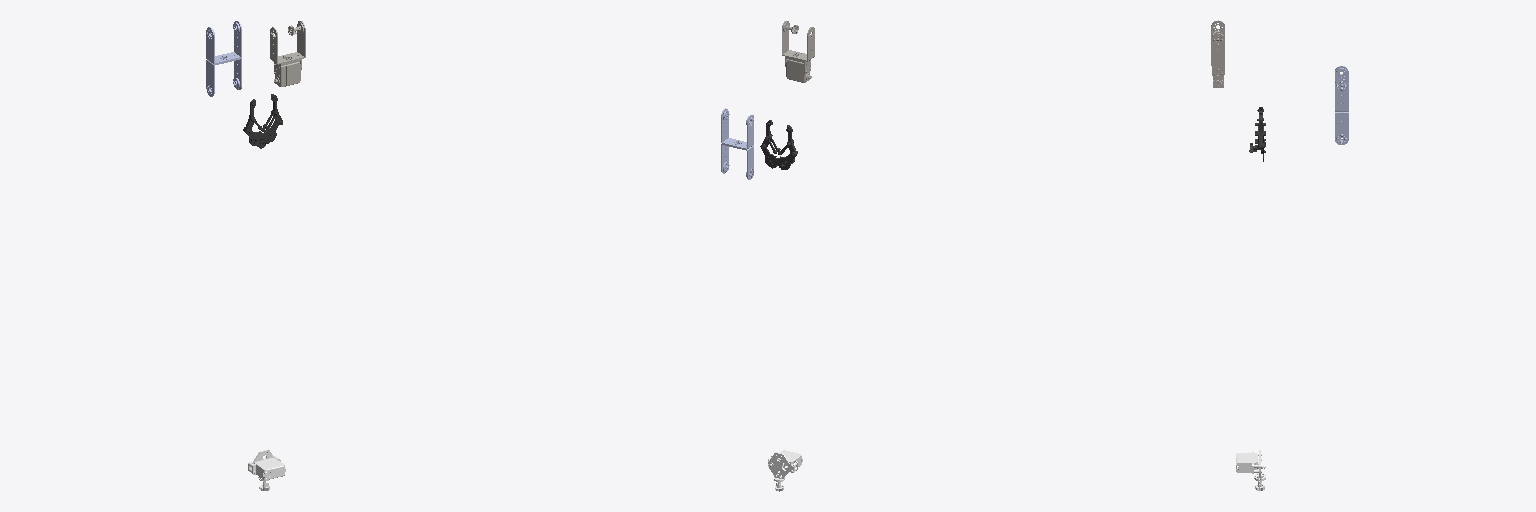
The robot description file, URDF, robot "robot1":
<?xml version="1.0" encoding="utf-8"?>
<!-- This URDF was automatically created by SolidWorks to URDF Exporter! Originally created by Stephen Brawner ([email redacted]) 
     Commit Version: 1.5.0-0-g9aa0fdb  Build Version: 1.5.7004.21443
     For more information, please see http://wiki.ros.org/sw_urdf_exporter -->
<robot
  name="robot1">
  <link
    name="base_link">
    <inertial>
      <origin
        xyz="-2.8237E-06 -0.14349 0.022762"
        rpy="0 0 0" />
      <mass
        value="0.13519" />
      <inertia
        ixx="0.00046442"
        ixy="1.9998E-08"
        ixz="6.1785E-13"
        iyy="0.00014057"
        iyz="1.1305E-08"
        izz="0.00060208" />
    </inertial>
    <visual>
      <origin
        xyz="0 0 0"
        rpy="0 0 0" />
      <geometry>
        <mesh
          filename="package://robot1/meshes/base_link.STL" />
      </geometry>
      <material
        name="">
        <color
          rgba="0.027451 0.56471 0.94902 1" />
      </material>
    </visual>
    <collision>
      <origin
        xyz="0 0 0"
        rpy="0 0 0" />
      <geometry>
        <mesh
          filename="package://robot1/meshes/base_link.STL" />
      </geometry>
    </collision>
  </link>
  <link
    name="lower_plate">
    <inertial>
      <origin
        xyz="1.4955E-05 -0.0042886 0.0010033"
        rpy="0 0 0" />
      <mass
        value="0.065579" />
      <inertia
        ixx="2.6895E-05"
        ixy="-6.8281E-09"
        ixz="1.5192E-08"
        iyy="5.4185E-05"
        iyz="-7.0729E-12"
        izz="2.9579E-05" />
    </inertial>
    <visual>
      <origin
        xyz="0 0 0"
        rpy="0 0 0" />
      <geometry>
        <mesh
          filename="package://robot1/meshes/lower_plate.STL" />
      </geometry>
      <material
        name="">
        <color
          rgba="0.027451 0.56471 0.94902 1" />
      </material>
    </visual>
    <collision>
      <origin
        xyz="0 0 0"
        rpy="0 0 0" />
      <geometry>
        <mesh
          filename="package://robot1/meshes/lower_plate.STL" />
      </geometry>
    </collision>
  </link>
  <joint
    name="lower_plate"
    type="revolute">
    <origin
      xyz="0 -0.17671 0.071097"
      rpy="-1.5708 0 -1.5708" />
    <parent
      link="base_link" />
    <child
      link="lower_plate" />
    <axis
      xyz="0 0 0" />
    <limit
      lower="-3.14"
      upper="3.14"
      effort="1000"
      velocity="1" />
    <safety_controller
      k_velocity="0" />
  </joint>
  <link
    name="lower_arm">
    <inertial>
      <origin
        xyz="-0.0912958583110127 -0.0199000243229966 -0.0109155252805412"
        rpy="0 0 0" />
      <mass
        value="0.0206839694838106" />
      <inertia
        ixx="1.04050452138262E-05"
        ixy="-7.8202350463771E-14"
        ixz="-9.38773889957363E-13"
        iyy="1.58526409378008E-05"
        iyz="-1.48225634940863E-12"
        izz="7.34460089310265E-06" />
    </inertial>
    <visual>
      <origin
        xyz="0 0 0"
        rpy="0 0 0" />
      <geometry>
        <mesh
          filename="package://robot1/meshes/lower_arm.STL" />
      </geometry>
      <material
        name="">
        <color
          rgba="0.792156862745098 0.819607843137255 0.933333333333333 1" />
      </material>
    </visual>
    <collision>
      <origin
        xyz="0 0 0"
        rpy="0 0 0" />
      <geometry>
        <mesh
          filename="package://robot1/meshes/lower_arm.STL" />
      </geometry>
    </collision>
  </link>
  <joint
    name="lower_arm"
    type="revolute">
    <origin
      xyz="0.0299 0.021603 0.009624"
      rpy="-3.1416 0 1.5708" />
    <parent
      link="lower_plate" />
    <child
      link="lower_arm" />
    <axis
      xyz="0 0 0" />
    <limit
      lower="-3.14"
      upper="3.14"
      effort="1000"
      velocity="1" />
    <safety_controller
      k_velocity="0" />
  </joint>
  <link
    name="mid_arm">
    <inertial>
      <origin
        xyz="0.0307657907032864 -0.0244040039215777 0.00621653090060798"
        rpy="0 0 0" />
      <mass
        value="0.0384992712385342" />
      <inertia
        ixx="8.28530616879522E-06"
        ixy="3.4001374267329E-08"
        ixz="-8.76714848928945E-09"
        iyy="7.6534968489718E-06"
        iyz="1.2836297474616E-06"
        izz="1.2330950302944E-05" />
    </inertial>
    <visual>
      <origin
        xyz="0 0 0"
        rpy="0 0 0" />
      <geometry>
        <mesh
          filename="package://robot1/meshes/mid_arm.STL" />
      </geometry>
      <material
        name="">
        <color
          rgba="0.772549019607843 0.752941176470588 0.733333333333333 1" />
      </material>
    </visual>
    <collision>
      <origin
        xyz="0 0 0"
        rpy="0 0 0" />
      <geometry>
        <mesh
          filename="package://robot1/meshes/mid_arm.STL" />
      </geometry>
    </collision>
  </link>
  <joint
    name="mid_arm"
    type="revolute">
    <origin
      xyz="-0.1431 0.199 0.018876"
      rpy="1.8217 1.5708 0" />
    <parent
      link="lower_arm" />
    <child
      link="mid_arm" />
    <axis
      xyz="0 0 0" />
    <limit
      lower="-3.14"
      upper="3.14"
      effort="1000"
      velocity="1" />
    <safety_controller
      k_velocity="0" />
  </joint>
  <link
    name="upper_arm">
    <inertial>
      <origin
        xyz="0.0147207624528104 -0.00985048540135169 0.019754032026627"
        rpy="0 0 0" />
      <mass
        value="0.0327562013390314" />
      <inertia
        ixx="3.21681359325304E-06"
        ixy="2.14025067053605E-08"
        ixz="2.1367433093298E-08"
        iyy="6.37752706614199E-06"
        iyz="-3.78688084487857E-15"
        izz="6.37879837386873E-06" />
    </inertial>
    <visual>
      <origin
        xyz="0 0 0"
        rpy="0 0 0" />
      <geometry>
        <mesh
          filename="package://robot1/meshes/upper_arm.STL" />
      </geometry>
      <material
        name="">
        <color
          rgba="0.0980392156862745 0.0980392156862745 0.0980392156862745 1" />
      </material>
    </visual>
    <collision>
      <origin
        xyz="0 0 0"
        rpy="0 0 0" />
      <geometry>
        <mesh
          filename="package://robot1/meshes/upper_arm.STL" />
      </geometry>
    </collision>
  </link>
  <joint
    name="upper_arm"
    type="revolute">
    <origin
      xyz="0.043239 0.2011 -0.0027462"
      rpy="-1.5708 -1.3199 1.5708" />
    <parent
      link="mid_arm" />
    <child
      link="upper_arm" />
    <axis
      xyz="0 0 0" />
    <limit
      lower="-3.14"
      upper="3.14"
      effort="1000"
      velocity="1" />
    <safety_controller
      k_velocity="0" />
  </joint>
  <link
    name="gripper_plate">
    <inertial>
      <origin
        xyz="-0.000333948454849436 0.018390116414722 0.00202656983975349"
        rpy="0 0 0" />
      <mass
        value="0.0154094130606123" />
      <inertia
        ixx="2.63703384135488E-06"
        ixy="8.79424292252623E-09"
        ixz="6.37013034350629E-07"
        iyy="2.13251492759509E-06"
        iyz="-2.12648958174474E-08"
        izz="1.41990803812168E-06" />
    </inertial>
    <visual>
      <origin
        xyz="0 0 0"
        rpy="0 0 0" />
      <geometry>
        <mesh
          filename="package://robot1/meshes/gripper_plate.STL" />
      </geometry>
      <material
        name="">
        <color
          rgba="1 1 1 1" />
      </material>
    </visual>
    <collision>
      <origin
        xyz="0 0 0"
        rpy="0 0 0" />
      <geometry>
        <mesh
          filename="package://robot1/meshes/gripper_plate.STL" />
      </geometry>
    </collision>
  </link>
  <joint
    name="gripper_plate"
    type="revolute">
    <origin
      xyz="0.02002 0.5842 0.018208"
      rpy="0 0.3918 3.1416" />
    <parent
      link="upper_arm" />
    <child
      link="gripper_plate" />
    <axis
      xyz="0 0 0" />
    <limit
      lower="-3.14"
      upper="3.14"
      effort="1000"
      velocity="1" />
    <safety_controller
      k_velocity="0" />
  </joint>
  <link
    name="gripper">
    <inertial>
      <origin
        xyz="0.0292107254493458 0.000193133354860708 0.00609175559229674"
        rpy="0 0 0" />
      <mass
        value="0.0151074353317046" />
      <inertia
        ixx="1.96858209044203E-06"
        ixy="3.04757060415282E-11"
        ixz="-6.25603081049867E-07"
        iyy="2.75579911287869E-06"
        iyz="1.12400048451221E-10"
        izz="9.3454593856632E-07" />
    </inertial>
    <visual>
      <origin
        xyz="0 0 0"
        rpy="0 0 0" />
      <geometry>
        <mesh
          filename="package://robot1/meshes/gripper.STL" />
      </geometry>
      <material
        name="">
        <color
          rgba="0.298039215686275 0.298039215686275 0.298039215686275 1" />
      </material>
    </visual>
    <collision>
      <origin
        xyz="0 0 0"
        rpy="0 0 0" />
      <geometry>
        <mesh
          filename="package://robot1/meshes/gripper.STL" />
      </geometry>
    </collision>
  </link>
  <joint
    name="gripper"
    type="prismatic">
    <origin
      xyz="0.00027783 0.67959 -0.022933"
      rpy="-2.3745 -0.98821 -2.2486" />
    <parent
      link="gripper_plate" />
    <child
      link="gripper" />
    <axis
      xyz="0 0 0" />
    <limit
      lower="-3.14"
      upper="3.14"
      effort="1000"
      velocity="1" />
    <safety_controller
      k_velocity="0" />
  </joint>
</robot>

--- What the picture shows (computed from the rendered views, not written in the file) ---
3 views of the same robot in one strip: view 1: azimuth 30°, elevation 25°; view 2: azimuth 150°, elevation 25°; view 3: azimuth 270°, elevation 25° (orthographic).
Robot: robot1 — 7 links, 6 joints (5 revolute, 1 prismatic); root link base_link; default pose: all joints at 0.
Visible links, largest first — view 1: mid_arm, lower_arm, gripper, gripper_plate; view 2: mid_arm, lower_arm, gripper, gripper_plate; view 3: lower_arm, mid_arm, gripper_plate.
Link boxes in pixels (x1,y1,x2,y2): mid_arm: [270, 21, 305, 86]; lower_arm: [206, 21, 241, 96]; gripper: [243, 94, 282, 148]; gripper_plate: [248, 449, 285, 490]; mid_arm: [782, 21, 814, 82]; lower_arm: [721, 108, 753, 179]; gripper: [760, 120, 797, 169]; gripper_plate: [768, 450, 802, 491]; lower_arm: [1335, 66, 1348, 144]; mid_arm: [1211, 20, 1224, 87]; gripper_plate: [1236, 450, 1265, 490].
Bounding box of the posed robot: 0.0729 × 0.2439 × 0.9063 m (x, y, z).
4 mesh visuals loaded from 7 distinct referenced files (4 binary STL); not drawn: 3 (reference not matched to a file when rendering).
